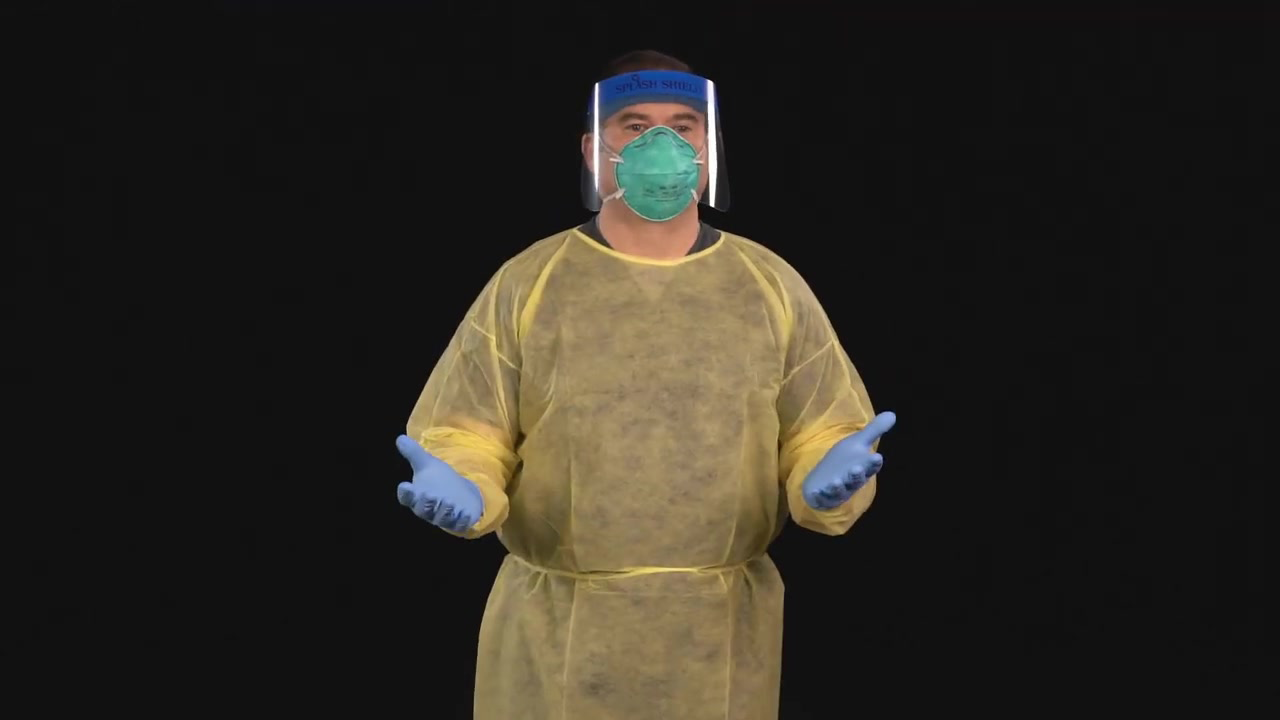Coverall: (414, 214, 826, 720)
Face_Shield: (560, 67, 742, 222)
Gloves: (355, 425, 506, 548), (811, 417, 894, 513)
with_mask: (615, 124, 702, 207)
